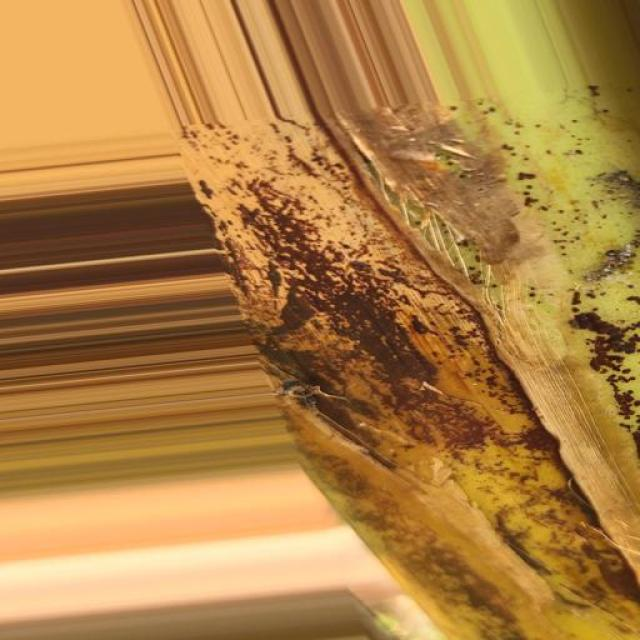Anthracnose: (106, 103, 640, 640)
